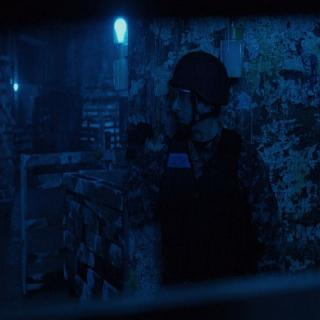gun: (125, 73, 159, 139)
